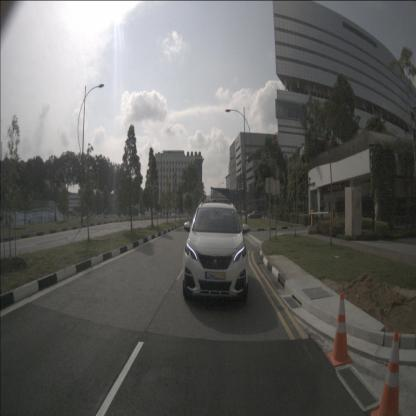cone: (370, 330, 408, 416), (328, 292, 352, 367)
